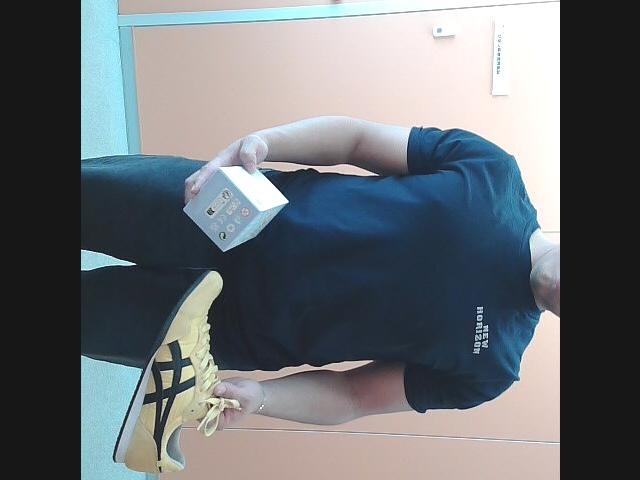Blind_box: (180, 160, 292, 256)
Shoes: (109, 265, 231, 480)
